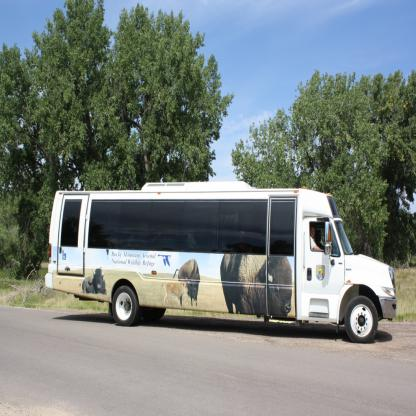Bus: (45, 180, 397, 344)
